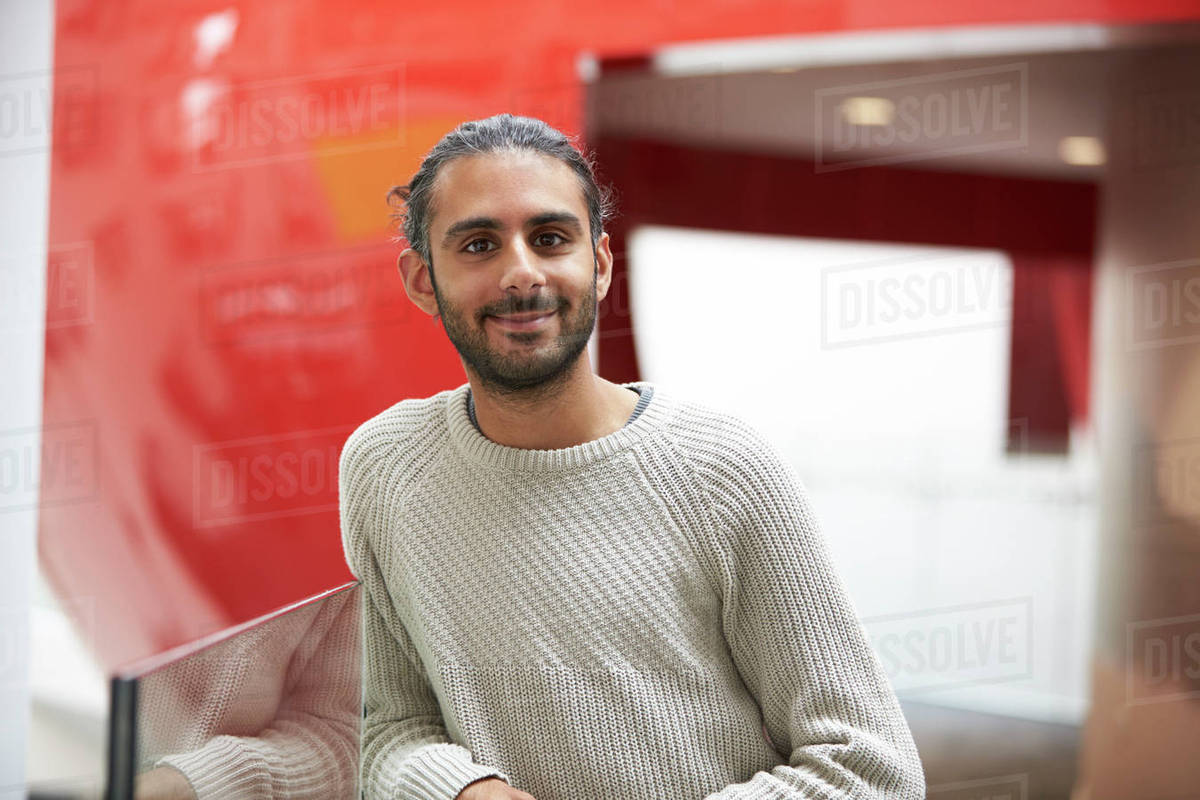bare: (430, 263, 606, 385)
